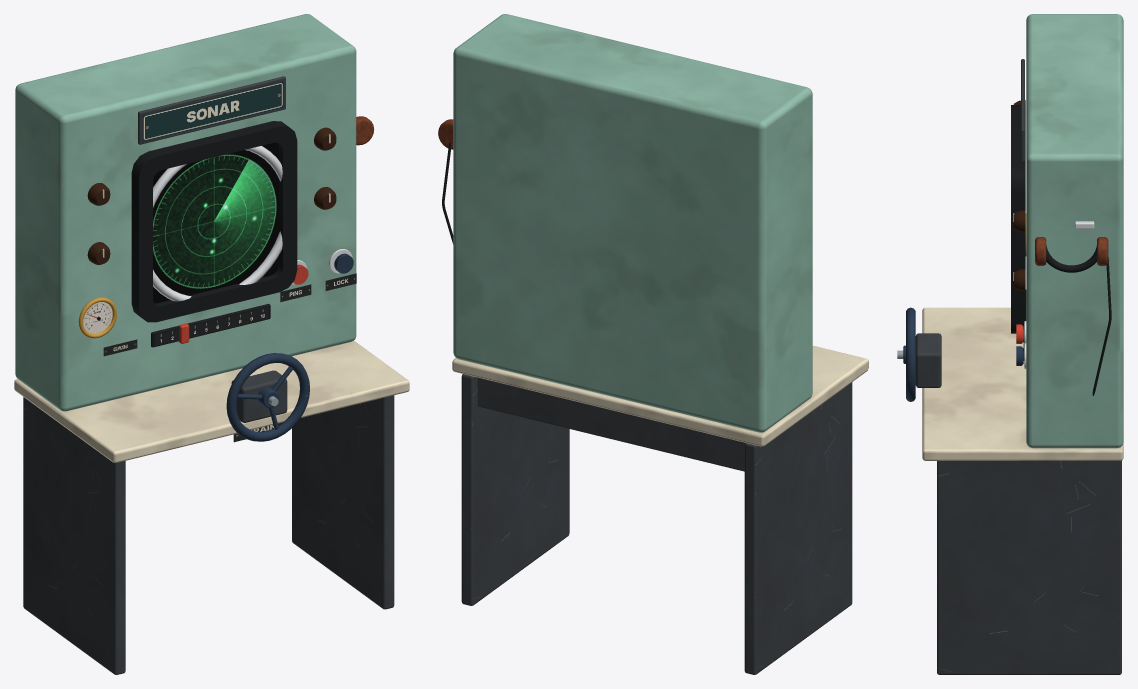
Rendered from SonarStation.glb.
3 views of the same model, side by side, from view 1: azimuth 30°, elevation 25°; view 2: azimuth 150°, elevation 25°; view 3: azimuth 270°, elevation 25° (orthographic). The views are drawn at different scales.
Visible parts, largest first — view 1: SonarStation_Body, SonarStation_TrainWheel; view 2: SonarStation_Body, SonarStation_Headphones; view 3: SonarStation_Body, SonarStation_Headphones, SonarStation_TrainWheel.
Boxes of the visible parts, x1=… form: SonarStation_Body: x1=14, y1=14, x2=409, y2=674; SonarStation_TrainWheel: x1=226, y1=353, x2=309, y2=441; SonarStation_Body: x1=452, y1=14, x2=868, y2=674; SonarStation_Headphones: x1=438, y1=119, x2=453, y2=244; SonarStation_Body: x1=915, y1=14, x2=1123, y2=674; SonarStation_Headphones: x1=1035, y1=237, x2=1111, y2=395; SonarStation_TrainWheel: x1=897, y1=307, x2=915, y2=401.
Size of the model in its own units: 1.12 by 1.78 by 0.6966.
Materials: 20 (15 with a texture image).
